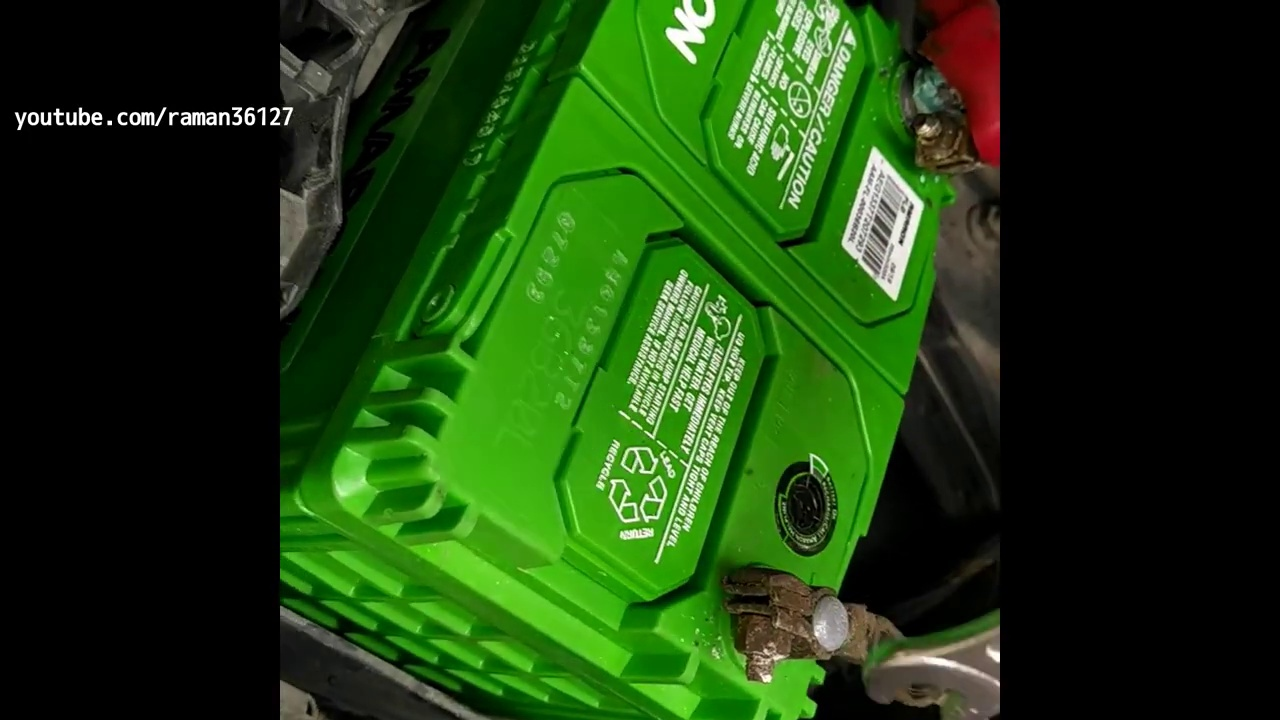battery: (376, 4, 1004, 714)
neg_connected: (716, 513, 918, 709)
pos_connected: (878, 8, 1004, 200)
